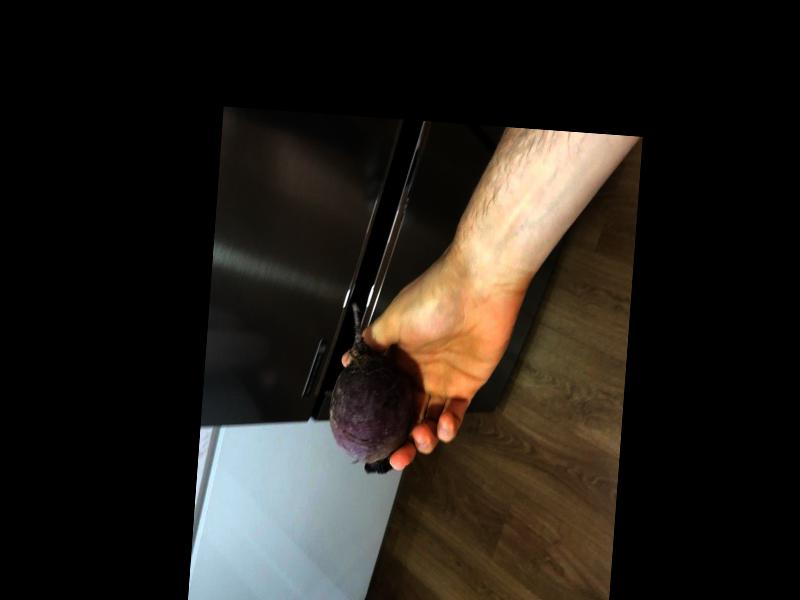Beet: (326, 303, 418, 477)
